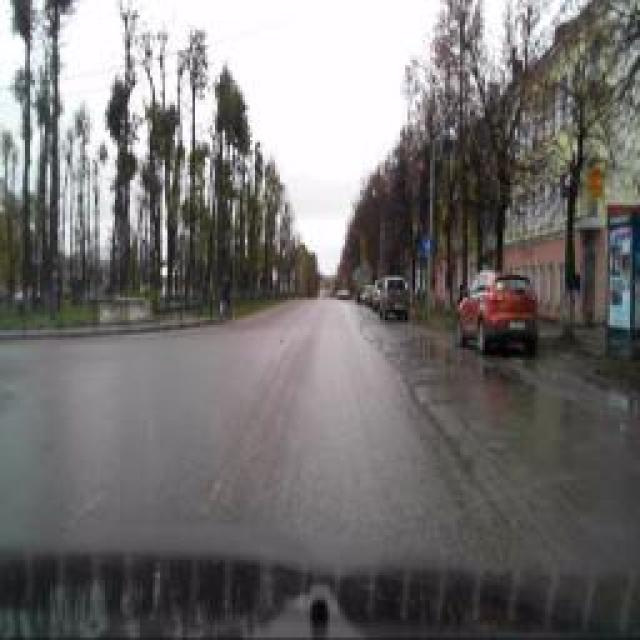sign: (421, 238, 434, 258)
